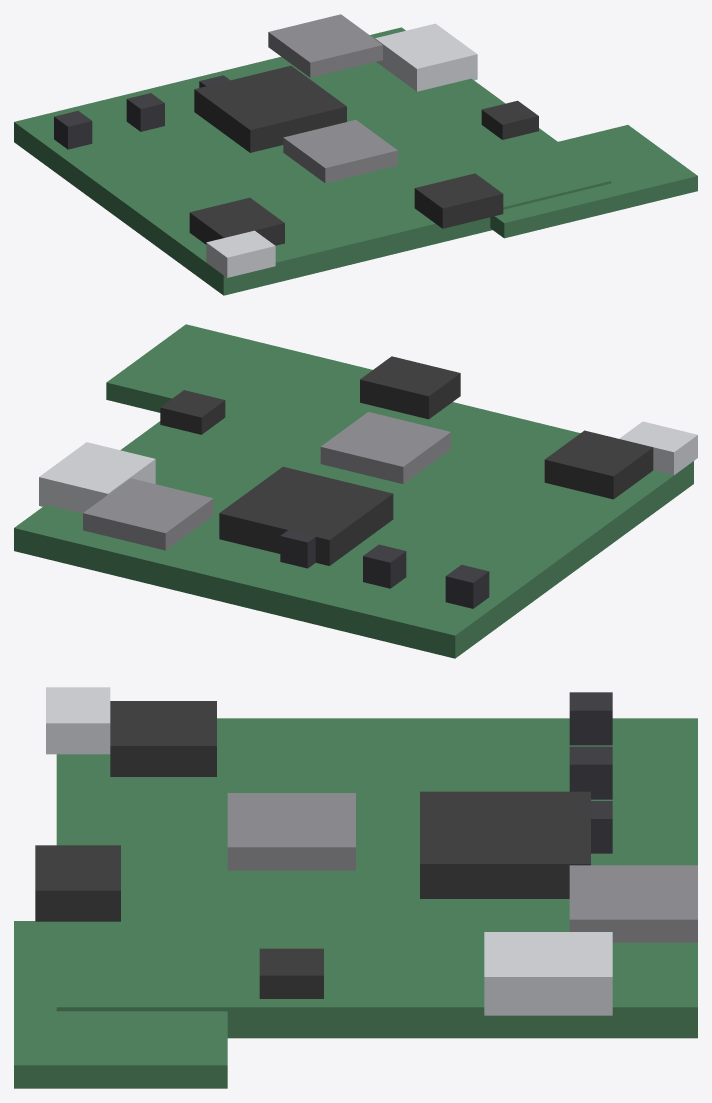
Rendered from mainboard.gltf.
3 views of the same model, one above another, from view 1: azimuth 30°, elevation 25°; view 2: azimuth 150°, elevation 25°; view 3: azimuth 270°, elevation 25° (orthographic). The views are drawn at different scales.
Parts seen in each view (by area): view 1: mainboard; view 2: mainboard; view 3: mainboard.
Boxes of the visible parts, x1,y1,x2,y2 form: mainboard: [14, 14, 697, 295]; mainboard: [14, 324, 697, 658]; mainboard: [14, 687, 697, 1088].
Size of the model in its own units: 0.19 by 0.019 by 0.16.
